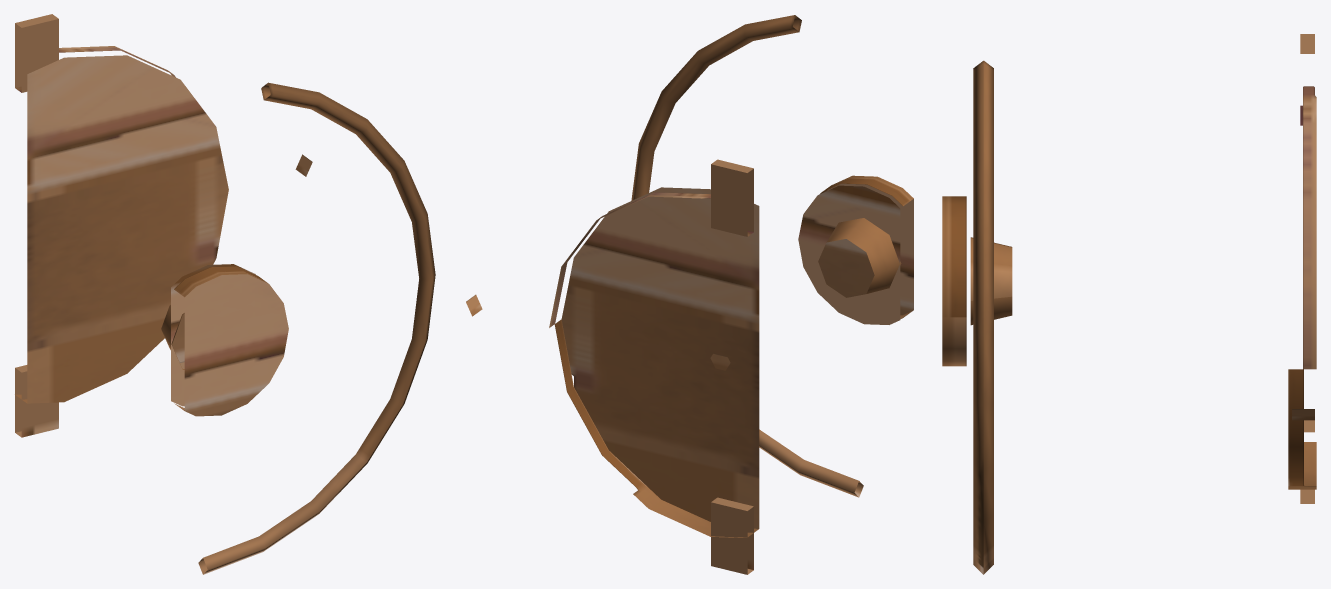
Rendered from section-7.obj.
3 views of the same model, side by side, from view 1: azimuth 30°, elevation 25°; view 2: azimuth 150°, elevation 25°; view 3: azimuth 270°, elevation 25° (orthographic). The views are drawn at different scales.
Size of the model in its own units: 0.7021 by 1.13 by 0.717.
